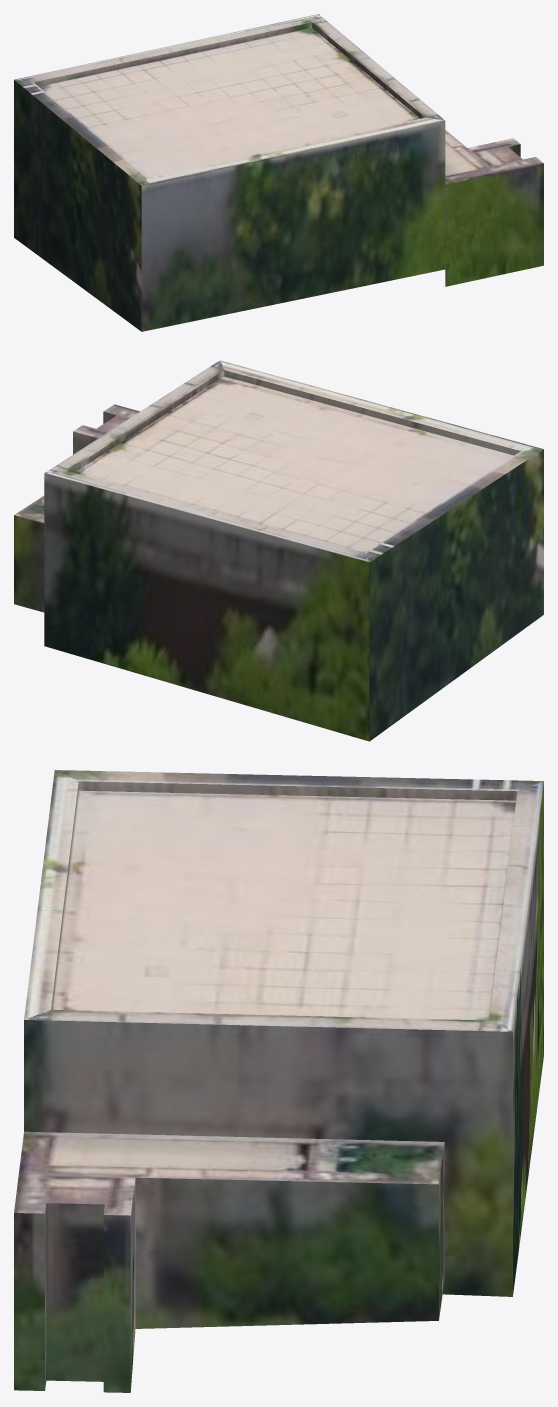
The picture shows the model from 3 angles, top to bottom: view 1: azimuth 30°, elevation 25°; view 2: azimuth 150°, elevation 25°; view 3: azimuth 270°, elevation 25°; orthographic projection. The views are drawn at different scales.
Visible parts, largest first — view 1: B285774035701062A0; view 2: B285774035701062A0; view 3: B285774035701062A0.
Part boxes in pixels (x1,y1,x2,y2): B285774035701062A0: [14, 14, 543, 331]; B285774035701062A0: [14, 360, 543, 741]; B285774035701062A0: [14, 770, 543, 1392].
Size of the model in its own units: 11.6 by 4.69 by 7.79.
Materials: 1 (1 with a texture image).
